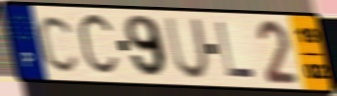2: (256, 17, 302, 86)
9: (125, 13, 171, 81)
C: (75, 10, 122, 80), (36, 13, 83, 75)
L: (214, 20, 258, 81)
U: (163, 16, 212, 81)
